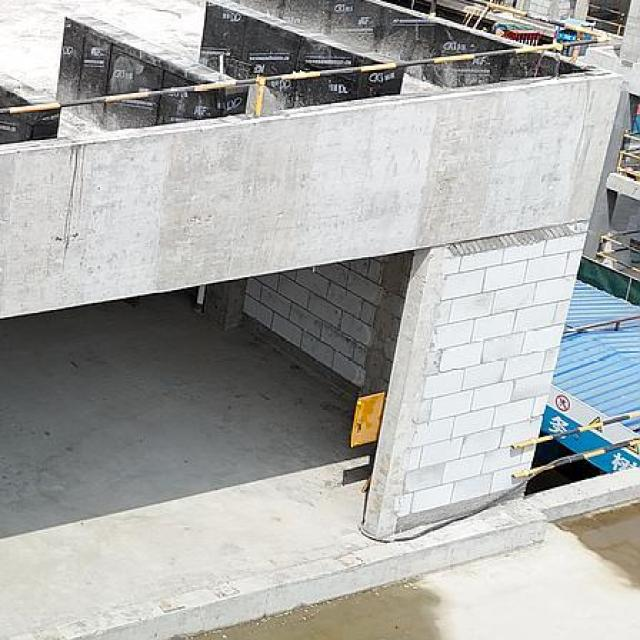edge_guardrail: (0, 0, 611, 117), (510, 410, 640, 480), (594, 229, 640, 274), (586, 4, 628, 35), (615, 132, 640, 177)
